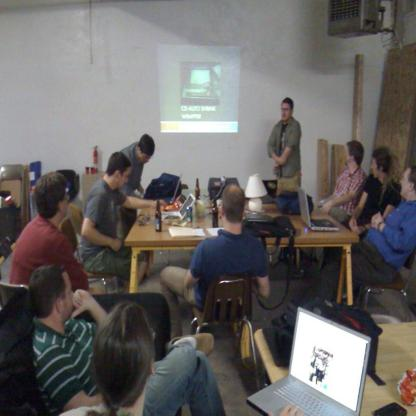board: (255, 305, 382, 416), (296, 186, 340, 232), (162, 192, 197, 222), (155, 198, 162, 231), (212, 196, 219, 227), (196, 178, 200, 199)
